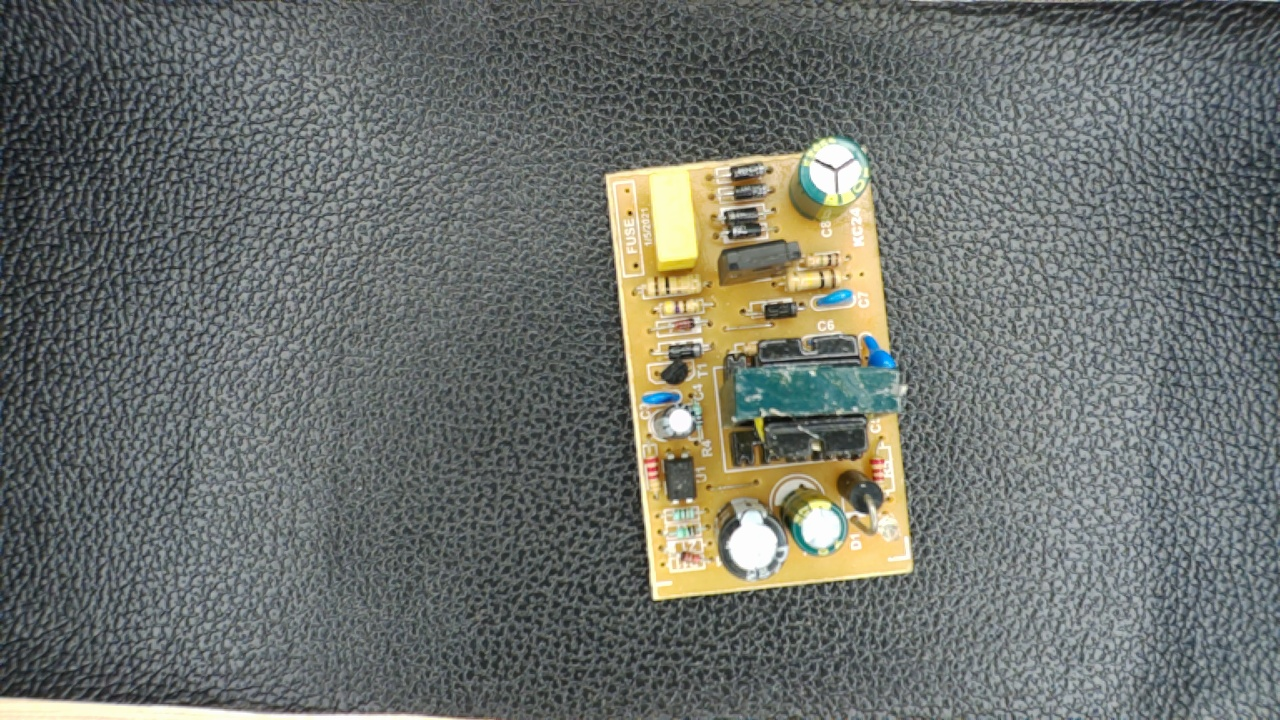hv_capacitor: (791, 138, 870, 222)
mov: (857, 330, 900, 387)
optocoupler: (659, 450, 704, 506)
